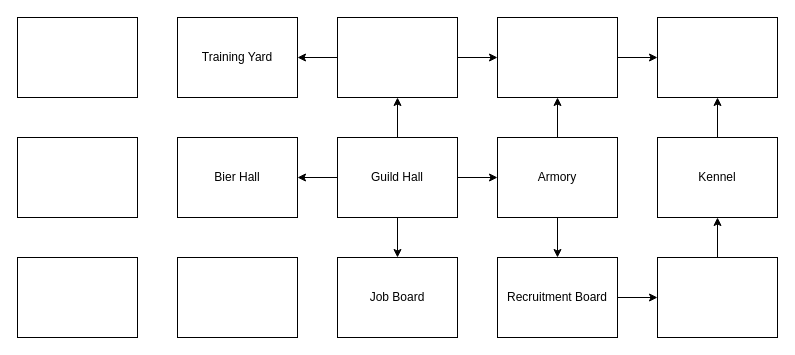
The diagram is 795 pixels wide and 355 high, and some of its shapes have lost their labels. Here are the shapes that lost their labels. From the top down, the centre of each, then its label:
At [397,57]: "Dormitory".
At [557,57]: "Barracks".
At [717,57]: "Stable".
